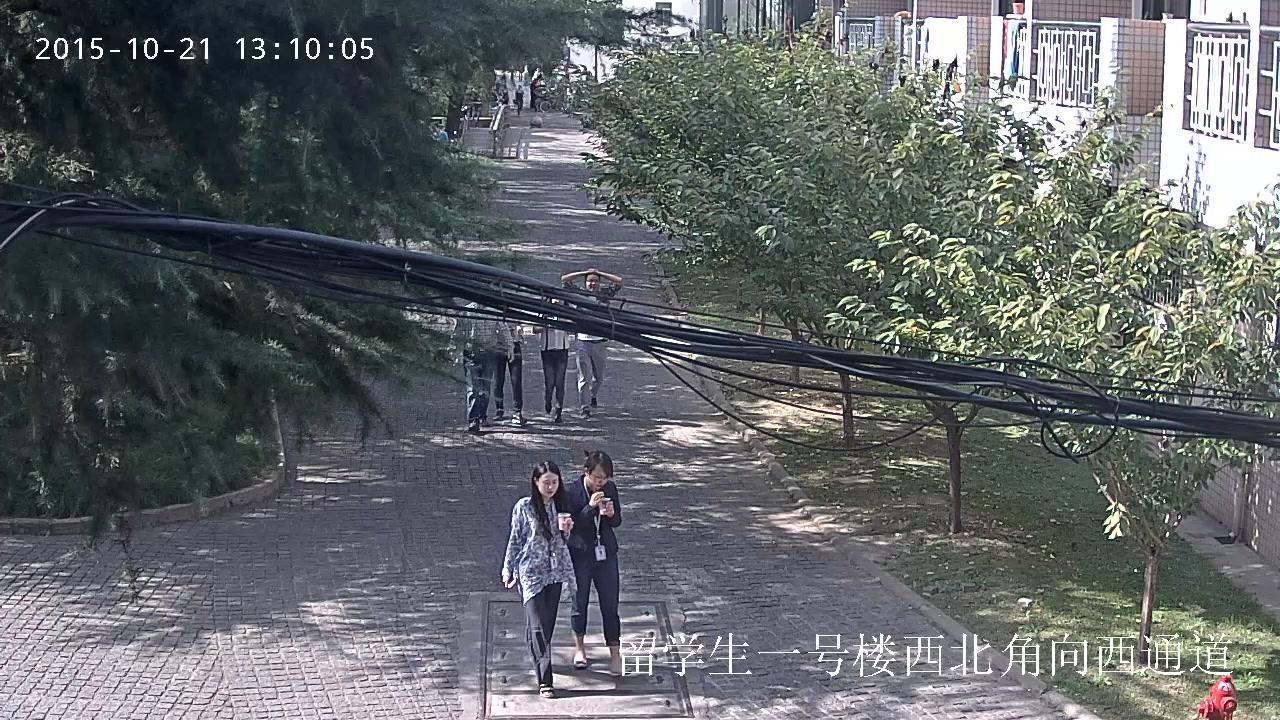face: (538, 471, 558, 496), (588, 464, 608, 489), (585, 274, 599, 290), (551, 298, 564, 304), (433, 125, 435, 132)
